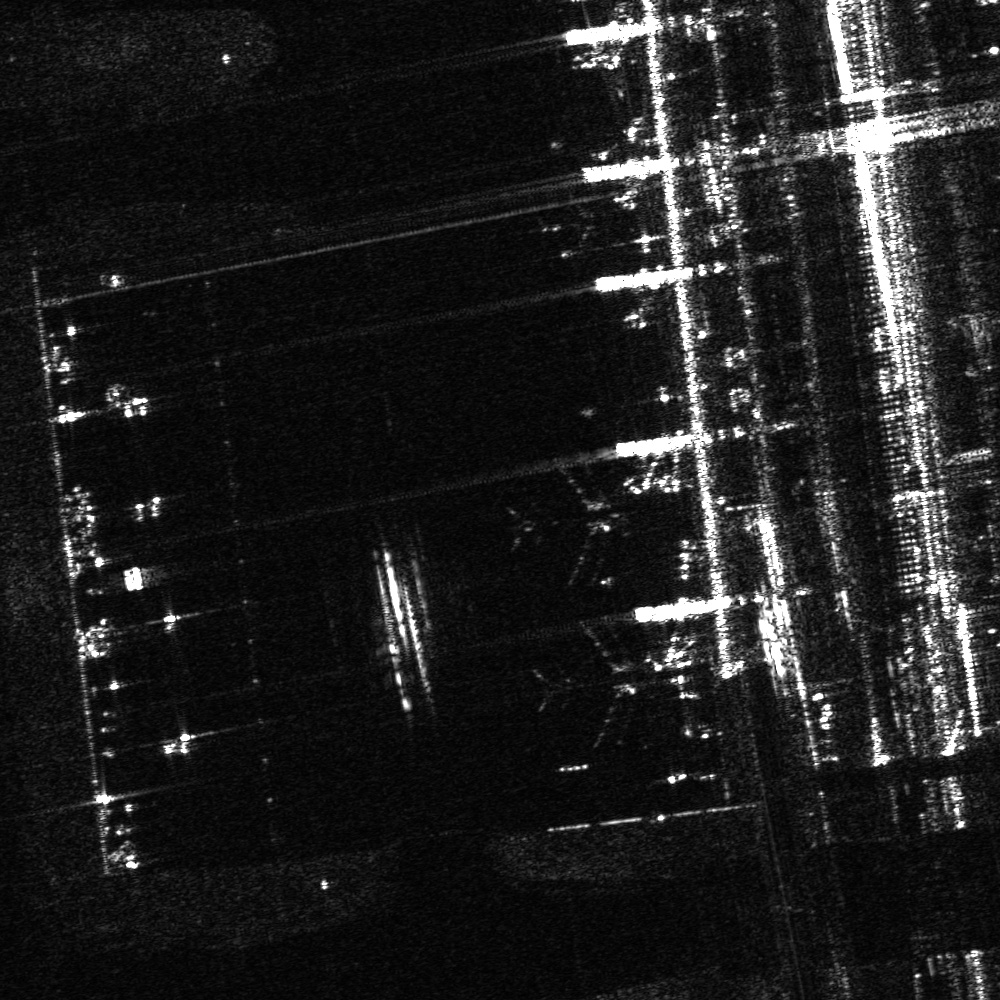A220: (532, 185, 619, 263)
A330: (538, 621, 657, 752)
Boeing787: (507, 464, 628, 590)
